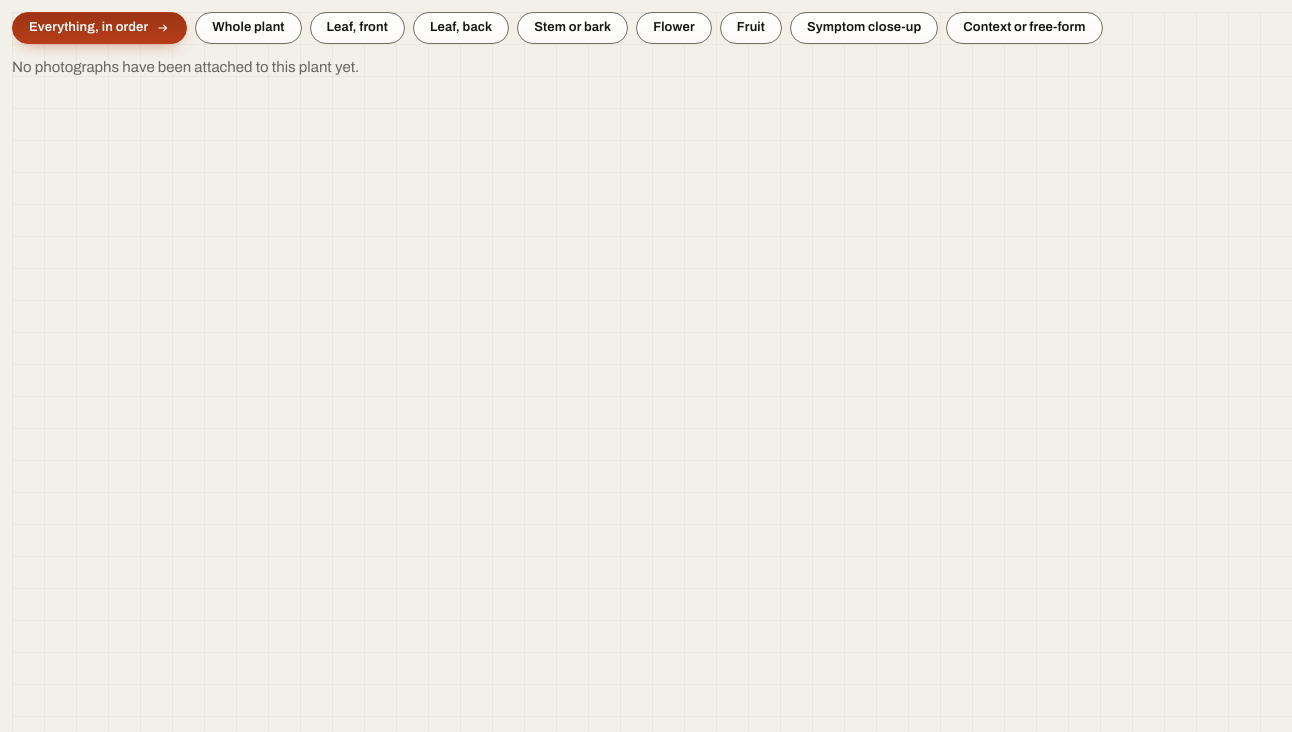
Test case: PlantJournalStrip › distinguishes an empty plant from an empty filter
Expected: the text "No photographs have been attached to this plant yet." is shown, [12,59,359,75]
Click the button "Fruit" at (751, 28), box [720,12,782,44]
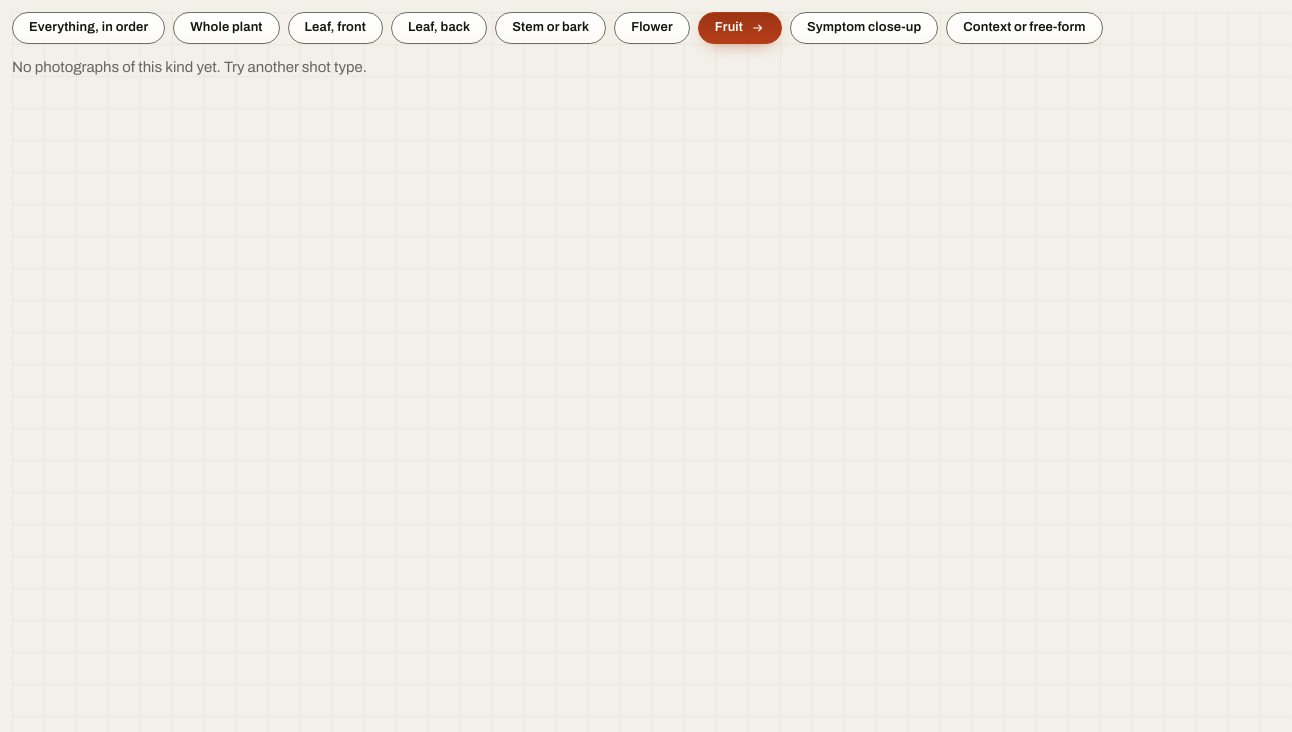
Expected: the text "No photographs of this kind yet. Try another shot type." is shown, [12,59,367,75]
